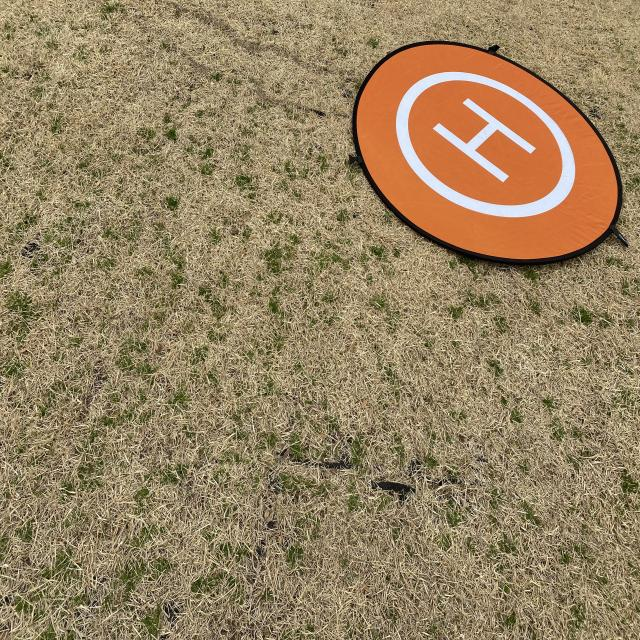helipad: (394, 70, 576, 218)
